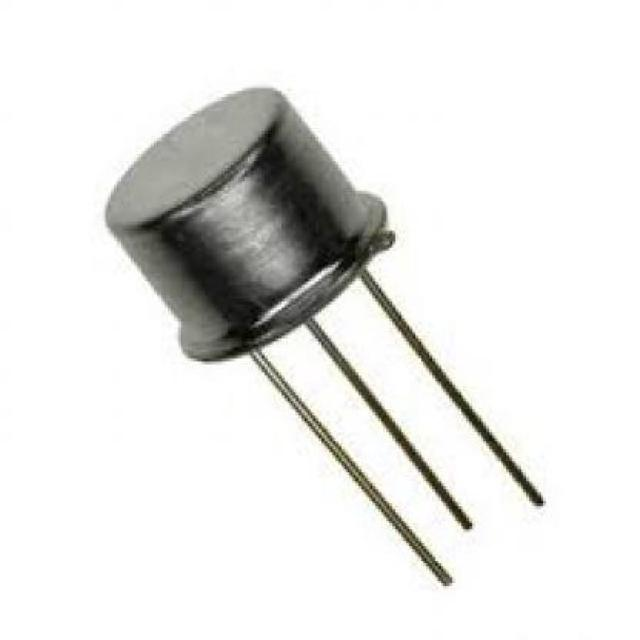Transistor: (103, 88, 395, 366)
